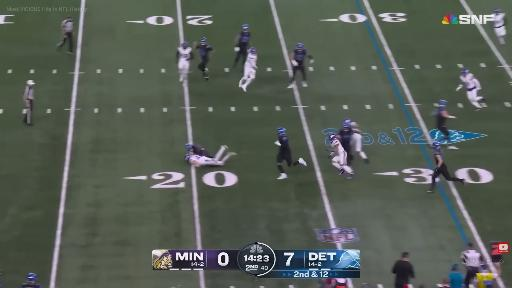Helmet: (242, 23, 250, 35), (278, 127, 287, 137), (438, 99, 447, 108), (29, 273, 38, 282), (296, 42, 304, 51), (460, 68, 469, 76), (432, 141, 440, 150), (328, 133, 337, 141), (201, 36, 207, 46), (185, 144, 192, 151), (182, 42, 188, 50), (250, 47, 256, 55), (184, 154, 190, 161), (495, 8, 500, 15)
Jersey: (460, 74, 481, 90), (338, 128, 352, 150), (330, 138, 345, 155), (278, 134, 290, 154), (197, 44, 212, 58), (435, 106, 445, 127), (294, 49, 307, 65), (189, 155, 209, 165), (239, 31, 250, 49), (178, 47, 191, 60), (245, 54, 257, 68), (494, 13, 505, 27), (434, 146, 442, 164), (190, 145, 204, 155), (351, 122, 360, 134), (21, 282, 41, 287)
Player: (428, 142, 464, 192), (275, 128, 306, 179), (456, 69, 485, 110), (288, 43, 313, 88), (435, 100, 457, 149), (185, 146, 236, 167), (329, 134, 353, 178), (348, 120, 369, 163), (194, 38, 213, 80), (239, 48, 257, 91), (234, 25, 250, 68), (338, 119, 353, 164), (176, 42, 193, 81), (494, 9, 506, 44), (186, 144, 210, 157), (22, 274, 41, 287)
